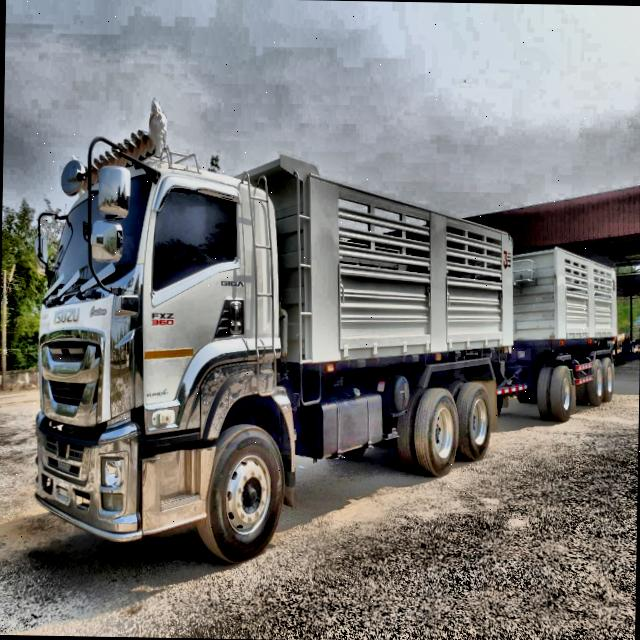trailer: (19, 111, 624, 578)
